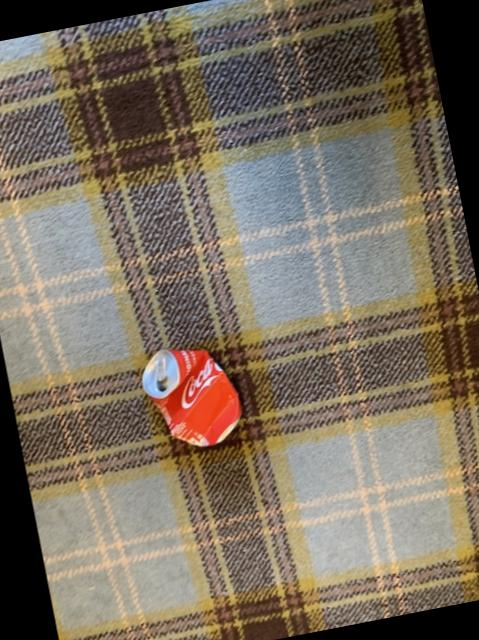metal: (139, 348, 238, 445)
